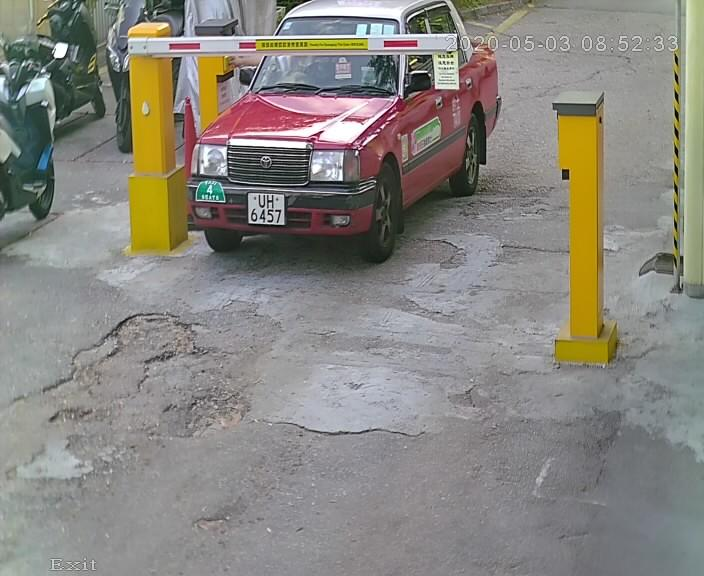Car: (182, 1, 513, 267)
License Plate: (237, 186, 295, 229)
